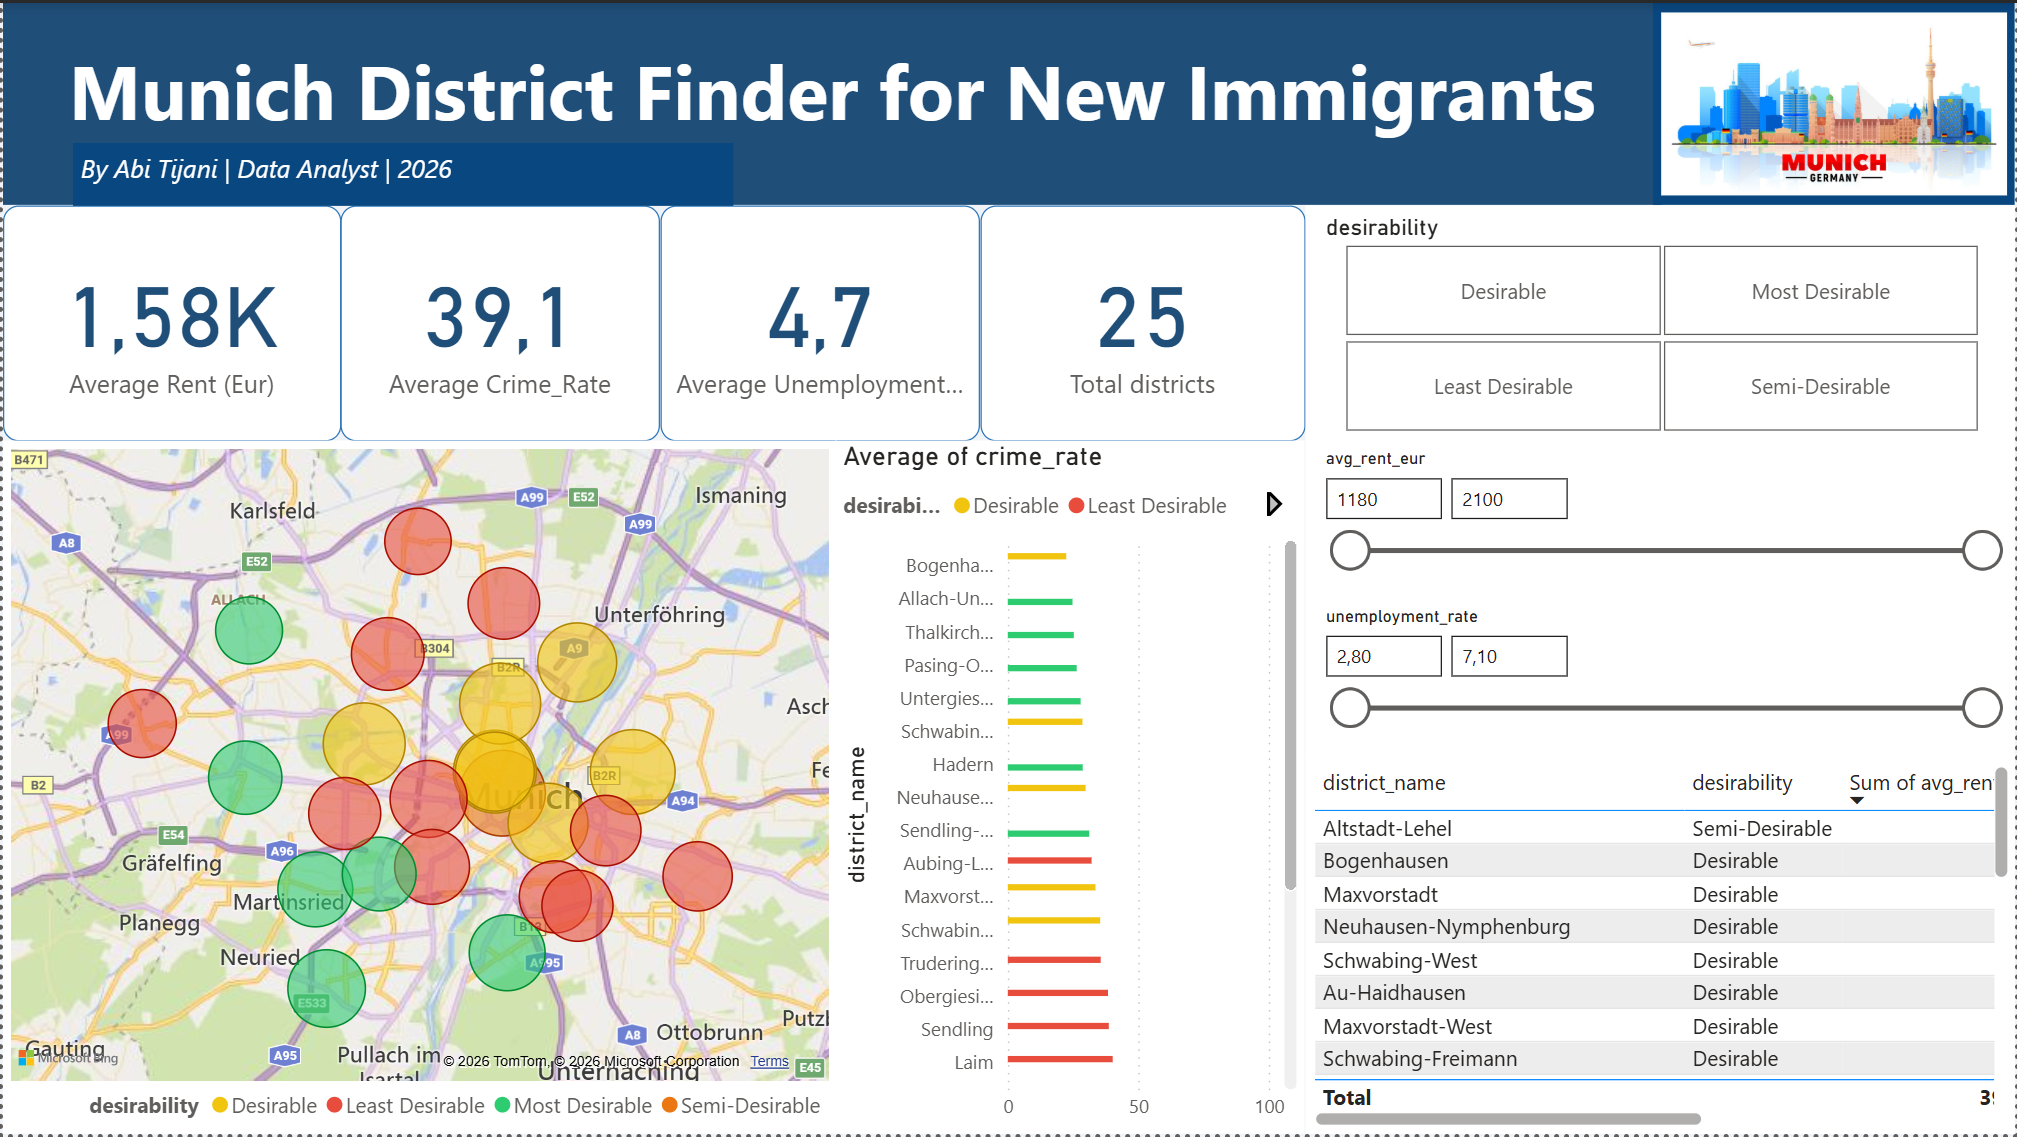

The dashboard page shown, as its layout file describes it:
{"tool":"powerbi","page":{"name":"Page 1","canvas":[1280,720],"ordinal":0},"visuals":[{"type":"textbox","box":[0,0,1055,128.3],"z":0},{"type":"card","fields":{"Values":["Avg(munich_districts_dataset_DE.avg_rent_eur)"]},"box":[0,128.3,215,150],"z":1000},{"type":"card","fields":{"Values":["Avg(munich_districts_dataset_DE.crime_rate)"]},"box":[215,128.3,203.3,150],"z":2000},{"type":"card","fields":{"Values":["Avg(munich_districts_dataset_DE.unemployment_rate)"]},"box":[418.3,128.3,203.3,150],"z":3000},{"type":"card","fields":{"Values":["CountNonNull(munich_districts_dataset_DE.district_name)"]},"box":[621.7,128.3,206.7,150],"z":4000},{"type":"map","fields":{"Size":["Sum(munich_districts_dataset_DE.avg_rent_eur)"],"Series":["munich_districts_dataset_DE.desirability"],"Category":["munich_districts_dataset_DE.district_name"]},"box":[0,278.3,530,441.7],"z":5000},{"type":"clusteredBarChart","title":"Average of crime_rate ","fields":{"Category":["munich_districts_dataset_DE.district_name"],"Y":["Sum(munich_districts_dataset_DE.crime_rate)"],"Series":["munich_districts_dataset_DE.desirability"]},"box":[530,278.3,298.3,441.7],"z":6000},{"type":"image","box":[1050,0,230,128.3],"z":7000},{"type":"slicer","fields":{"Values":["munich_districts_dataset_DE.desirability"]},"box":[828.3,128.3,451.7,150],"z":8000},{"type":"slicer","fields":{"Values":["munich_districts_dataset_DE.avg_rent_eur"]},"box":[828.3,278.3,451.7,100],"z":9000},{"type":"slicer","fields":{"Values":["munich_districts_dataset_DE.unemployment_rate"]},"box":[828.3,378.3,451.7,103.3],"z":10000},{"type":"tableEx","fields":{"Values":["munich_districts_dataset_DE.district_name","munich_districts_dataset_DE.desirability","Sum(munich_districts_dataset_DE.avg_rent_eur)","Sum(munich_districts_dataset_DE.crime_rate)","Sum(munich_districts_dataset_DE.unemployment_rate)"]},"box":[828,481,452,239],"z":11000},{"type":"textbox","box":[45,88.3,420,40],"z":13501}]}

Visuals, with their boxes in screenshot pixels (x1, y1, x2, y2), scaled from the page's 1280x720 canvas onto the 2017x1137 screenshot:
textbox: (left=0, top=0, right=1662, bottom=203)
card - Avg(munich_districts_dataset_DE.avg_rent_eur): (left=0, top=203, right=339, bottom=439)
card - Avg(munich_districts_dataset_DE.crime_rate): (left=339, top=203, right=659, bottom=439)
card - Avg(munich_districts_dataset_DE.unemployment_rate): (left=659, top=203, right=980, bottom=439)
card - CountNonNull(munich_districts_dataset_DE.district_name): (left=980, top=203, right=1305, bottom=439)
map - Sum(munich_districts_dataset_DE.avg_rent_eur) x munich_districts_dataset_DE.desirability: (left=0, top=439, right=835, bottom=1136)
"Average of crime_rate " clusteredBarChart: (left=835, top=439, right=1305, bottom=1136)
image: (left=1655, top=0, right=2016, bottom=203)
slicer - munich_districts_dataset_DE.desirability: (left=1305, top=203, right=2016, bottom=439)
slicer - munich_districts_dataset_DE.avg_rent_eur: (left=1305, top=439, right=2016, bottom=597)
slicer - munich_districts_dataset_DE.unemployment_rate: (left=1305, top=597, right=2016, bottom=761)
tableEx - munich_districts_dataset_DE.district_name x munich_districts_dataset_DE.desirability: (left=1305, top=760, right=2016, bottom=1136)
textbox: (left=71, top=139, right=733, bottom=203)
